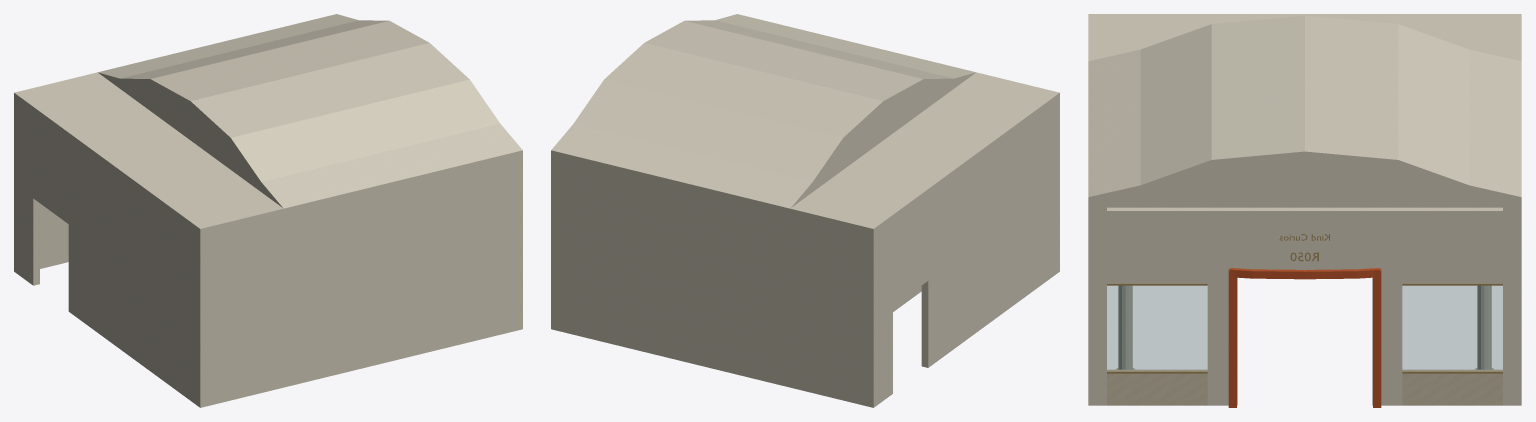
The model's file is SHOP_D09_P100_A366__shell.glb.
3 views of the same model, side by side, from view 1: azimuth 30°, elevation 25°; view 2: azimuth 150°, elevation 25°; view 3: azimuth 270°, elevation 25° (orthographic). The views are drawn at different scales.
Visible parts, largest first — view 1: SHOP_D09_P100_A366__shell__ivory_enamel; view 2: SHOP_D09_P100_A366__shell__ivory_enamel; view 3: SHOP_D09_P100_A366__shell__ivory_enamel, SHOP_D09_P100_A366__shell__shop_glass, SHOP_D09_P100_A366__shell__warm_stone, SHOP_D09_P100_A366__shell__retail_terracotta_enamel, SHOP_D09_P100_A366__shell__champagne_metal.
Boxes of the visible parts, x1,y1,x2,y2 form: SHOP_D09_P100_A366__shell__ivory_enamel: (14,14,522,407); SHOP_D09_P100_A366__shell__ivory_enamel: (551,14,1059,407); SHOP_D09_P100_A366__shell__ivory_enamel: (1088,14,1521,405); SHOP_D09_P100_A366__shell__shop_glass: (1107,286,1502,370); SHOP_D09_P100_A366__shell__warm_stone: (1107,368,1502,405); SHOP_D09_P100_A366__shell__retail_terracotta_enamel: (1228,268,1381,407); SHOP_D09_P100_A366__shell__champagne_metal: (1107,234,1502,373).
Size of the model in its own units: 11.86 by 7.5 by 11.6.
6 materials, 4 textured.
